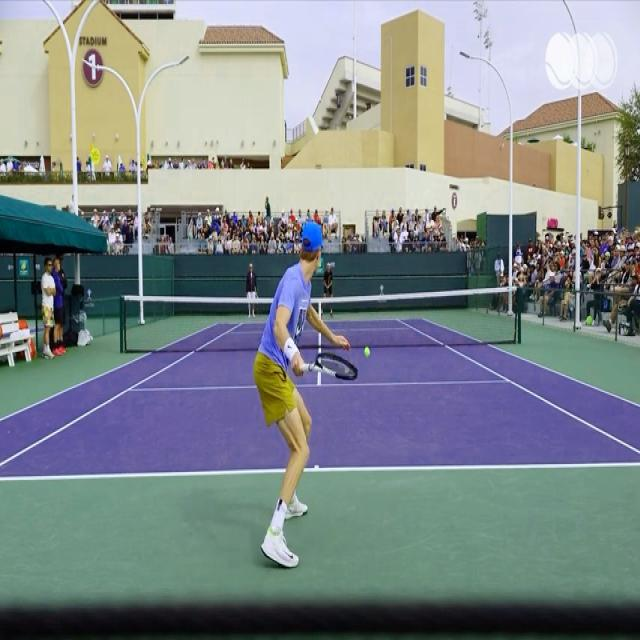forehand-stroke: (248, 218, 370, 566)
